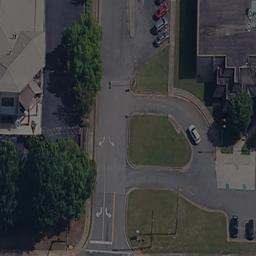Car: (148, 1, 170, 49), (184, 115, 204, 149), (229, 213, 240, 239), (245, 216, 256, 242)
Crosswalk: (83, 250, 131, 256)
Double Solid Yellow Line: (111, 191, 114, 239)
Left Turn Arrow: (107, 134, 117, 147), (103, 206, 112, 219)
Right Turn Arrow: (96, 132, 106, 154), (93, 204, 102, 219)
Solid White Line: (101, 190, 106, 239)
Stop Line: (87, 239, 114, 246)
